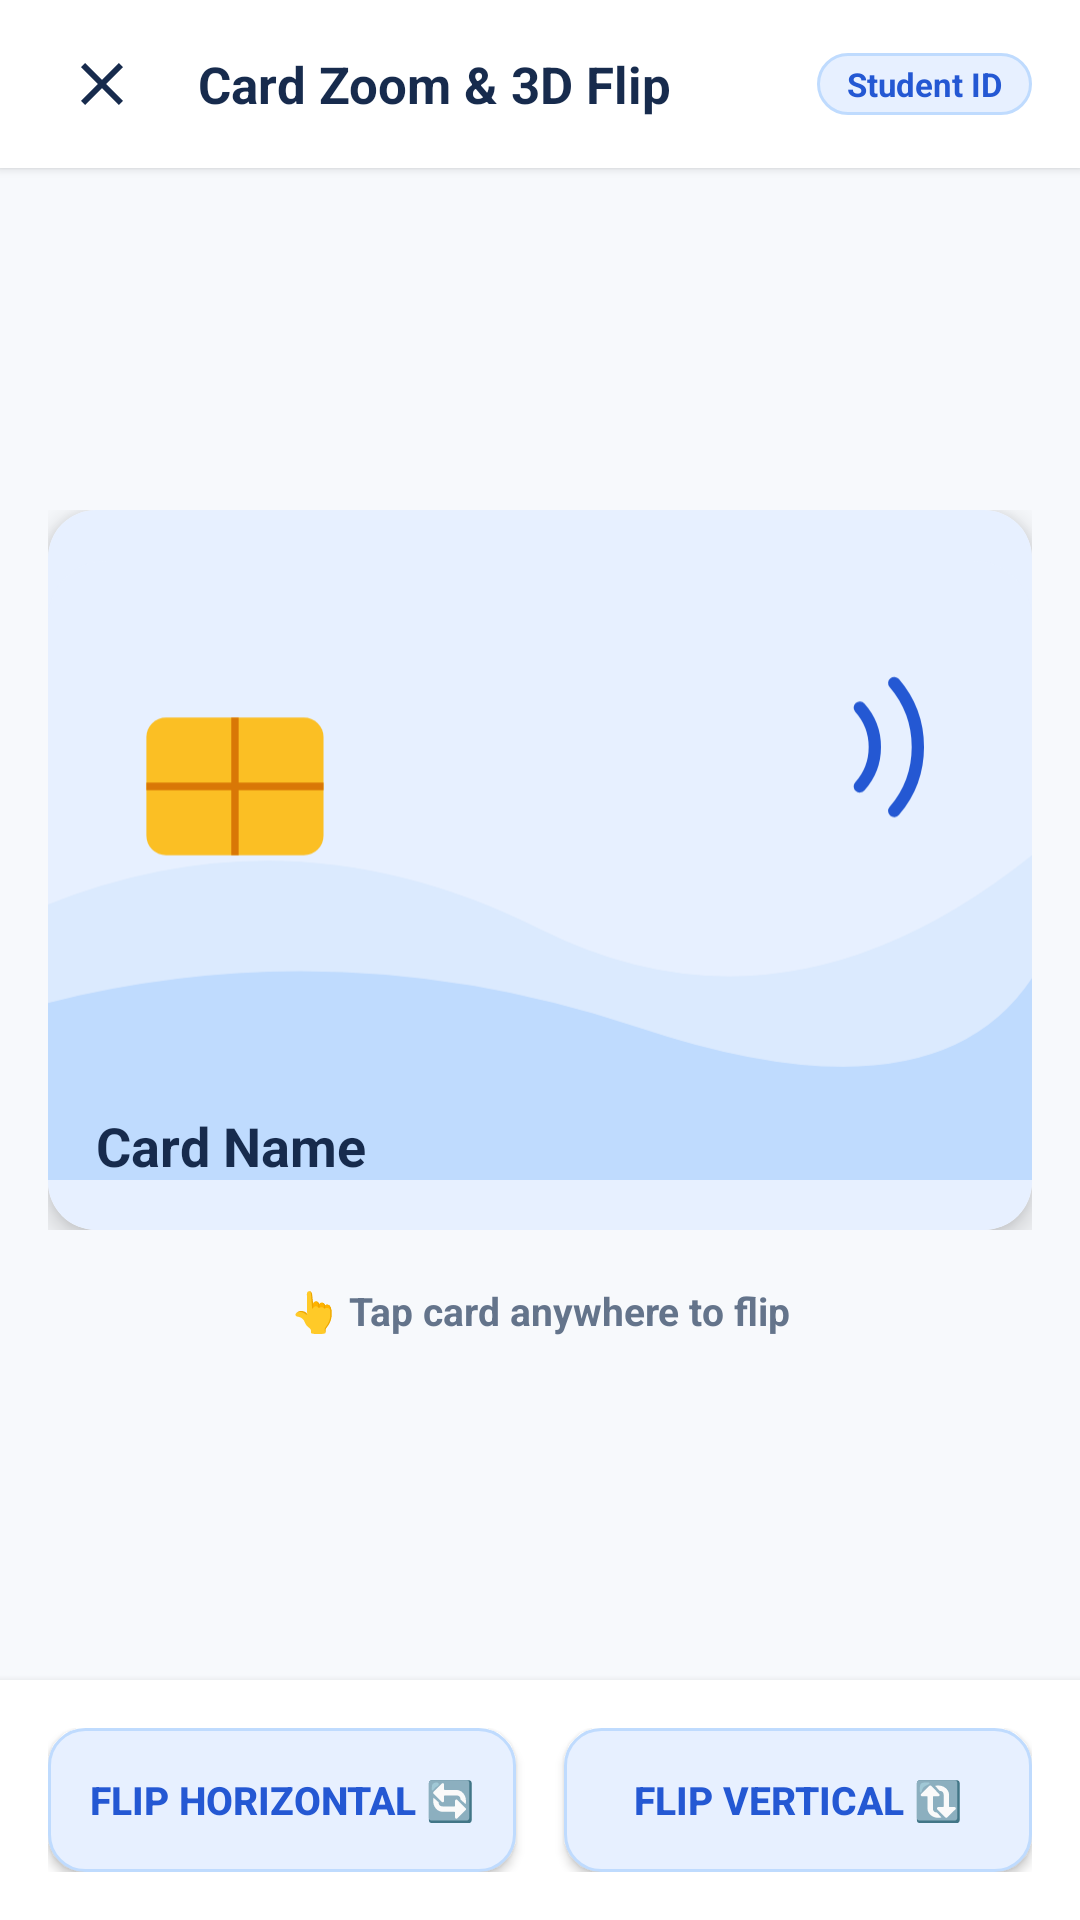

Icons on this 1080 × 1920 Android screen, each with the point to tap as point (x, y):
Cancel: point (102, 84)
